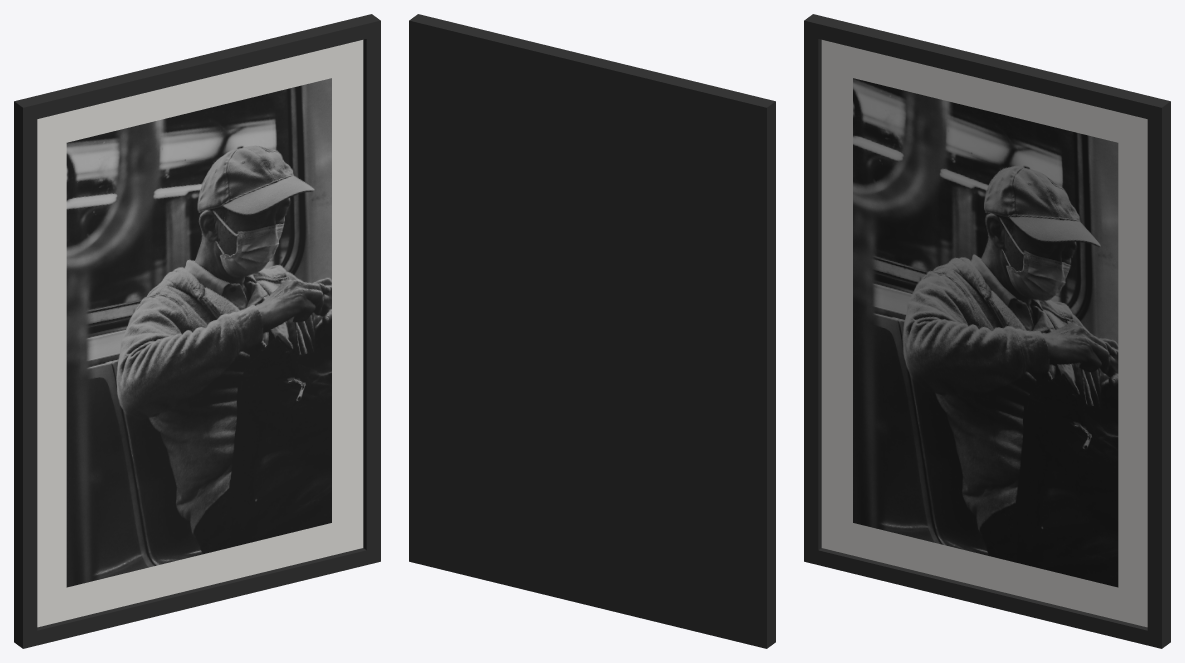
The model's file is pendlaren-60.gltf.
3 views of the same model, side by side, from view 1: azimuth 30°, elevation 25°; view 2: azimuth 150°, elevation 25°; view 3: azimuth 330°, elevation 25° (orthographic).
Visible parts, largest first — view 1: tavla; view 2: tavla; view 3: tavla.
Part boxes in pixels (bbox=[...]): tavla: bbox=[14, 14, 380, 648]; tavla: bbox=[409, 14, 775, 648]; tavla: bbox=[804, 14, 1170, 648].
Bounding box in the file's own units: 0.505 × 0.73 × 0.022.
Materials: 3 (1 with a texture image).
